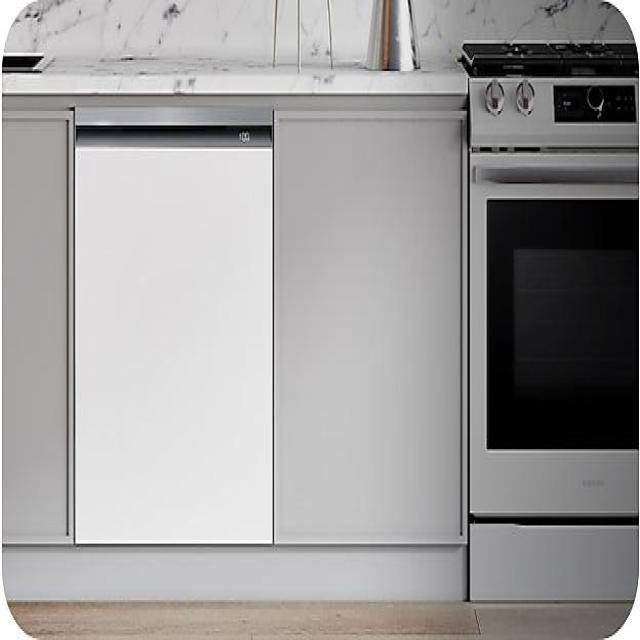dishwasher: (57, 72, 290, 620)
